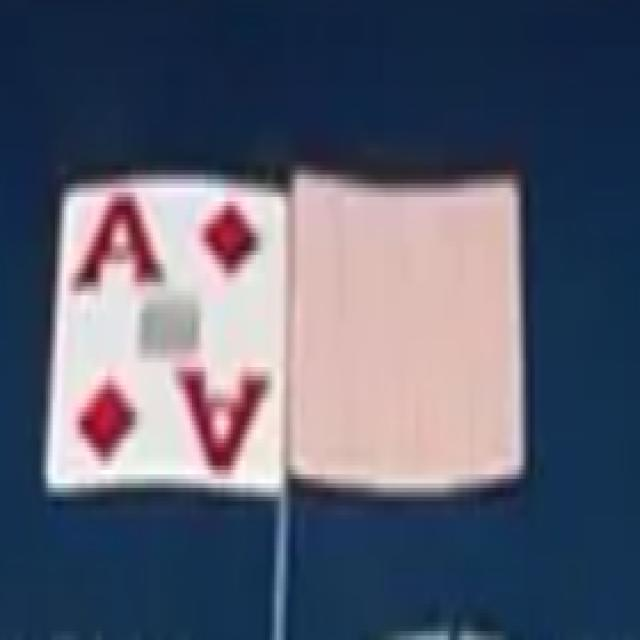Card-A: (49, 183, 289, 499)
